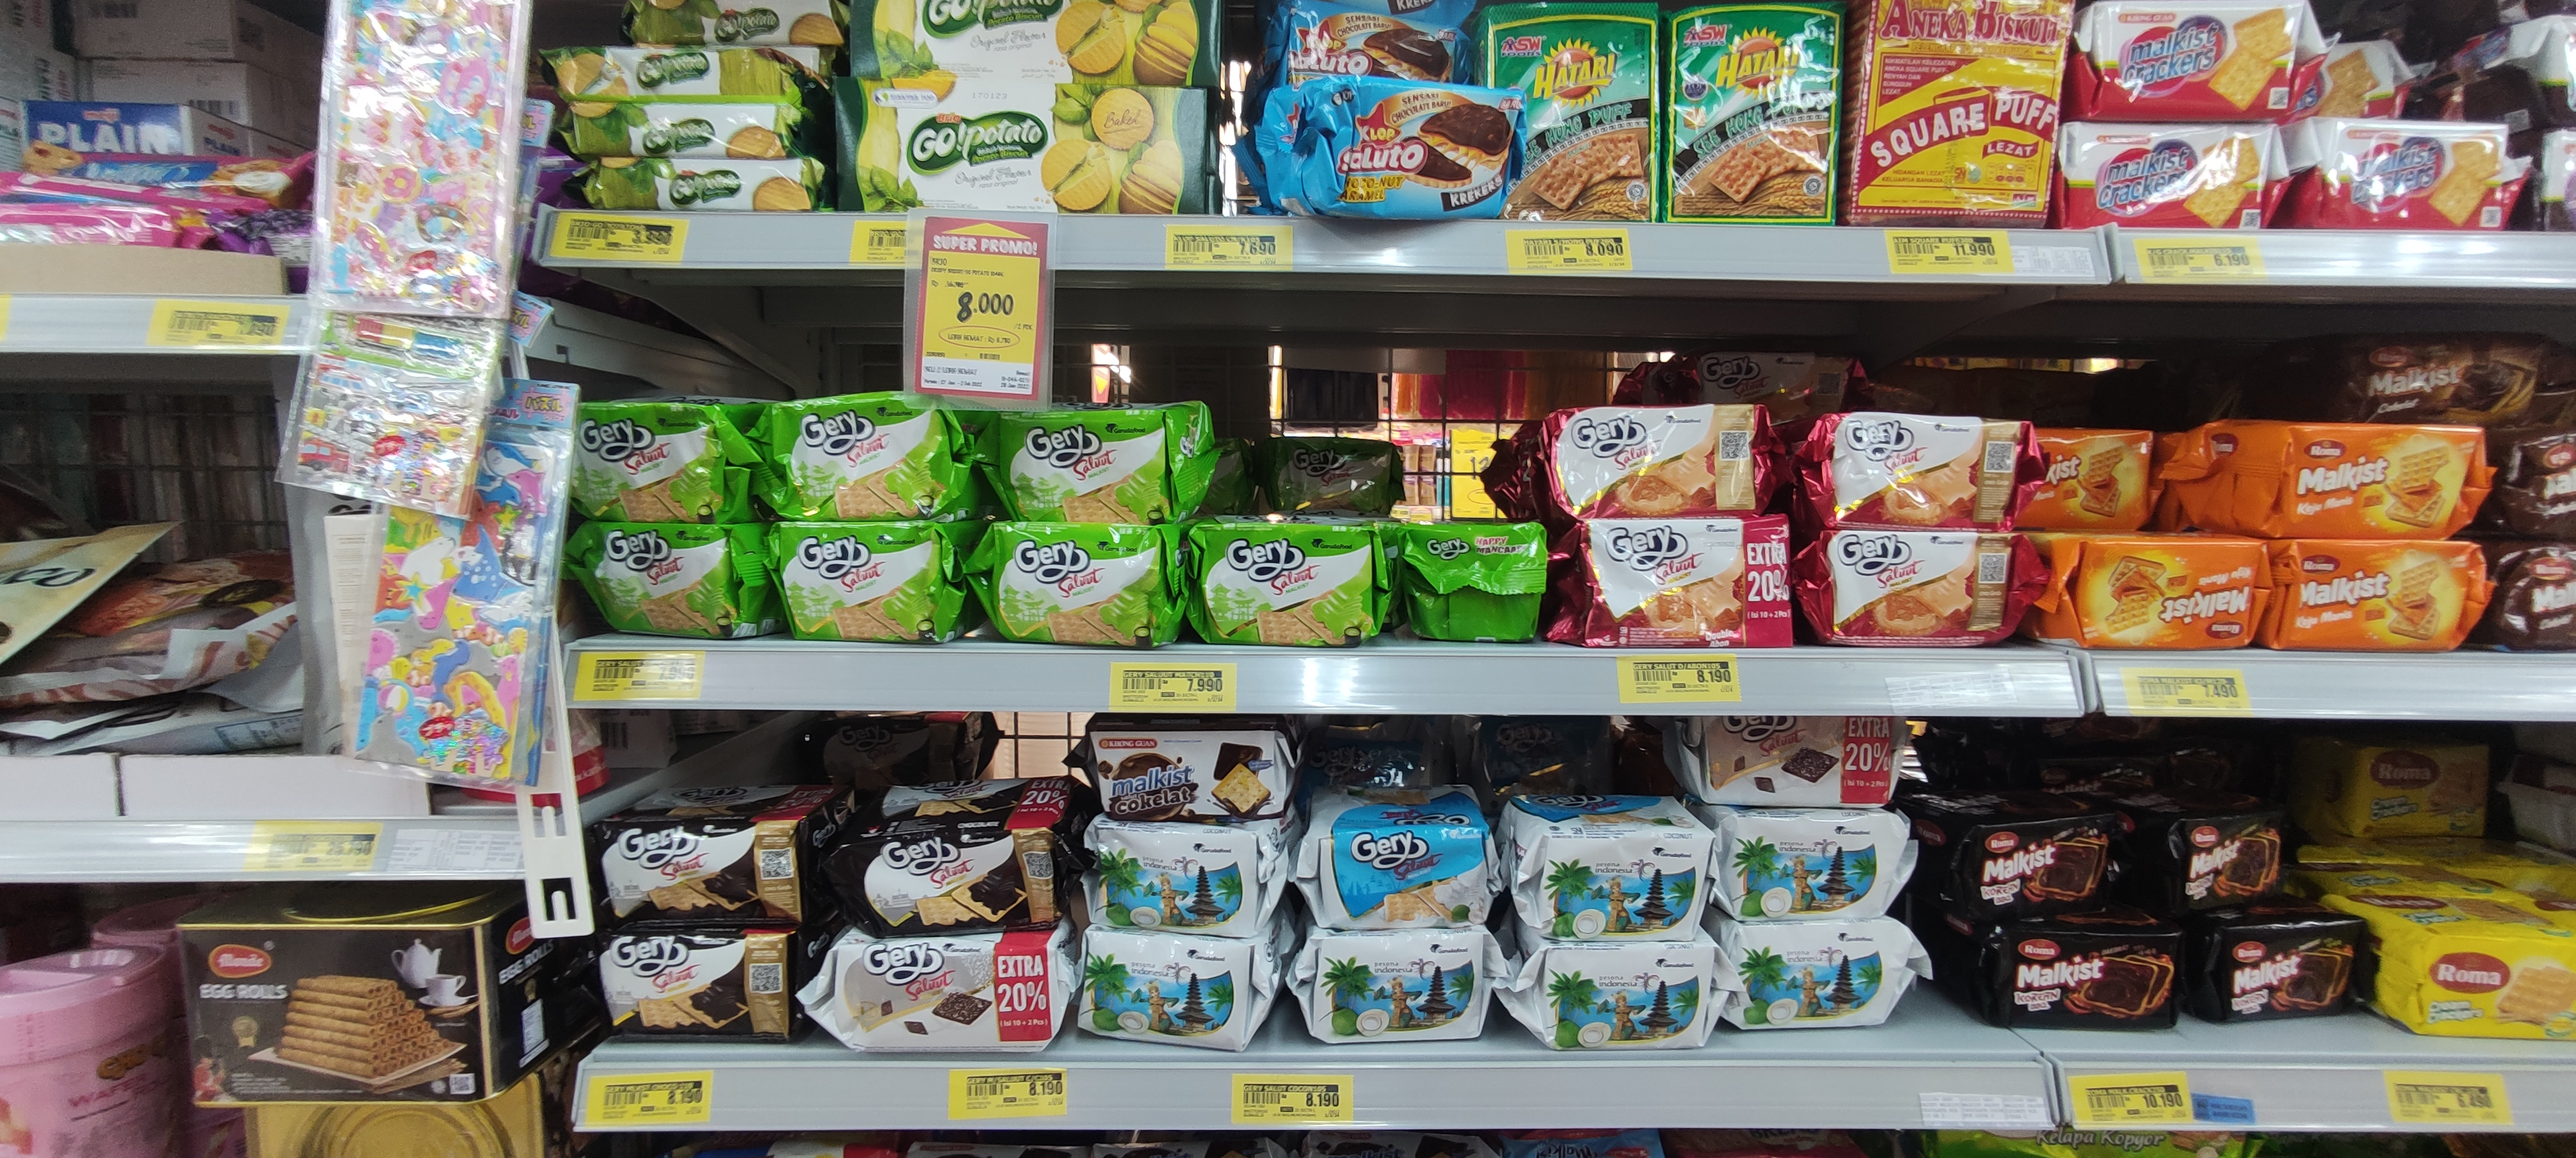90101225202101: (856, 779, 1071, 926), (603, 779, 823, 921), (596, 933, 802, 1033)
90101225209100: (1502, 793, 1707, 940), (1311, 783, 1490, 925), (1727, 928, 1916, 1036), (1304, 933, 1490, 1043), (1084, 933, 1257, 1048), (1534, 943, 1713, 1050), (1723, 815, 1896, 920), (1094, 831, 1267, 923)
90101225212101: (1191, 526, 1385, 641), (986, 411, 1180, 526), (769, 399, 963, 514), (567, 402, 761, 517), (567, 514, 761, 629), (982, 526, 1176, 641), (759, 522, 951, 637), (1410, 522, 1544, 639), (1257, 430, 1406, 516)
90101225218101: (836, 949, 1058, 1045), (1690, 716, 1912, 811)
90101225226101: (1585, 519, 1787, 642), (1822, 412, 2024, 535), (1817, 519, 2019, 642), (1587, 521, 1789, 642), (1557, 399, 1759, 521)
AimBiskuitSquarePuff: (1850, 0, 2062, 225)
GoPotato104Gr: (838, 80, 1204, 214)
GoPotato60Gr: (552, 46, 820, 102), (583, 158, 820, 214), (570, 103, 790, 156)
HatariSeeHongPuff: (1487, 0, 1656, 218), (1674, 8, 1843, 225)
KhongGuanMalkistCrackers: (2070, 2, 2300, 125), (2068, 0, 2298, 123), (2298, 118, 2525, 228), (2057, 120, 2284, 228)
KlopSalutoChocoNutCaramel: (1262, 84, 1507, 215)
RomaCreamCrackers: (2310, 741, 2487, 841)
RomaMalkistKejuManis: (2170, 425, 2479, 534), (2169, 424, 2477, 532), (2049, 537, 2270, 649), (2270, 540, 2492, 652)
RomaMalkistKoreanBBQ: (2188, 920, 2372, 1022), (1925, 816, 2108, 905), (1994, 933, 2177, 1022), (2150, 811, 2282, 910)
